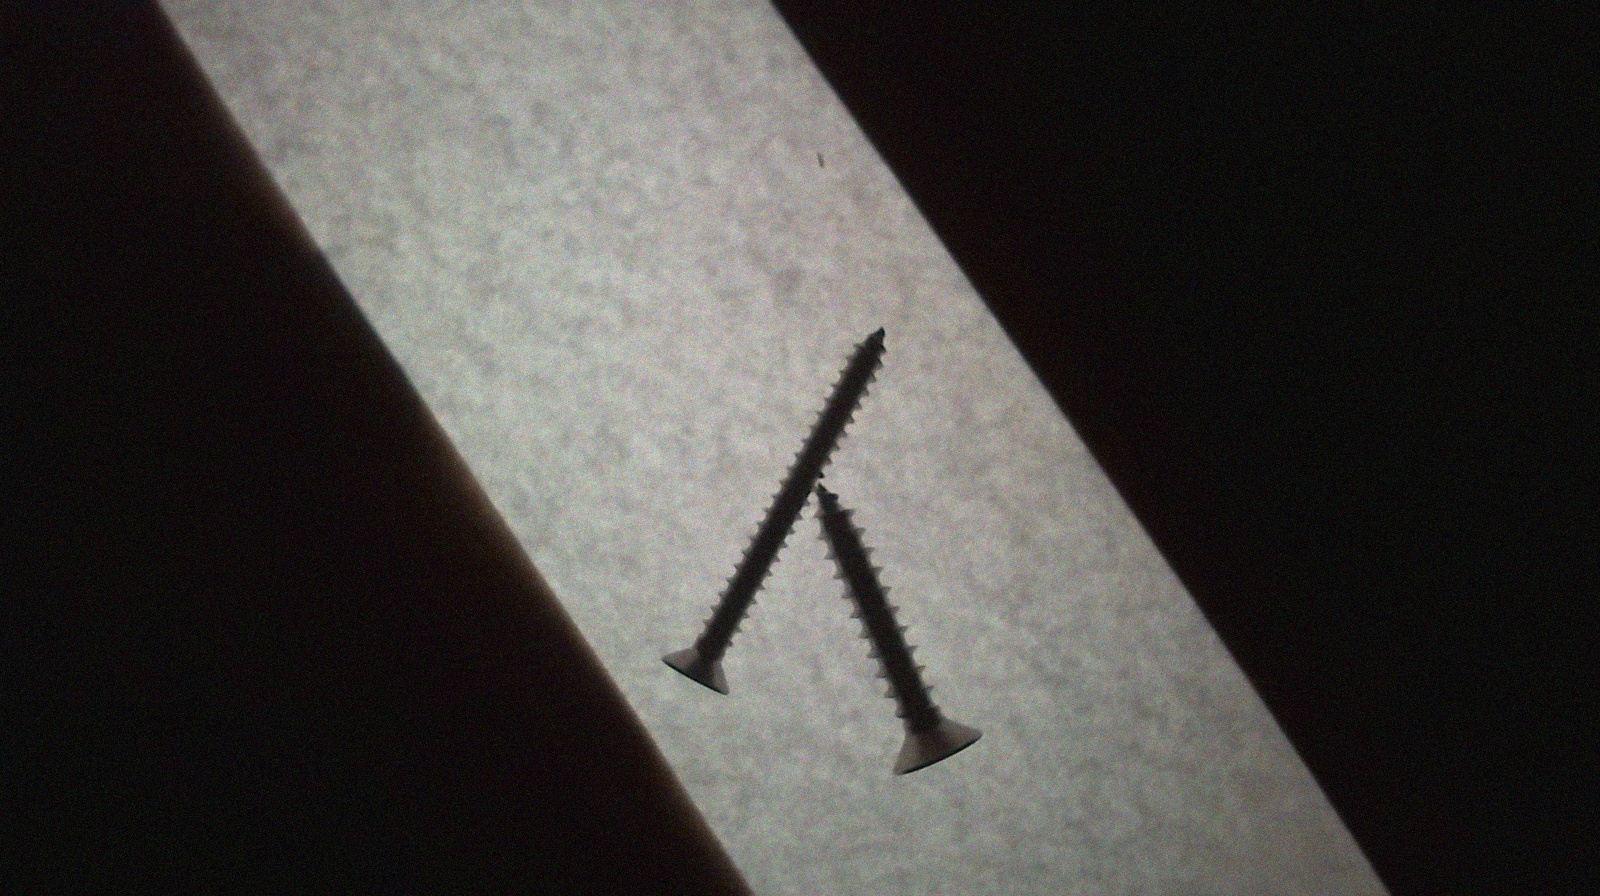S001: (819, 478, 995, 782)
S002: (660, 321, 891, 695)
